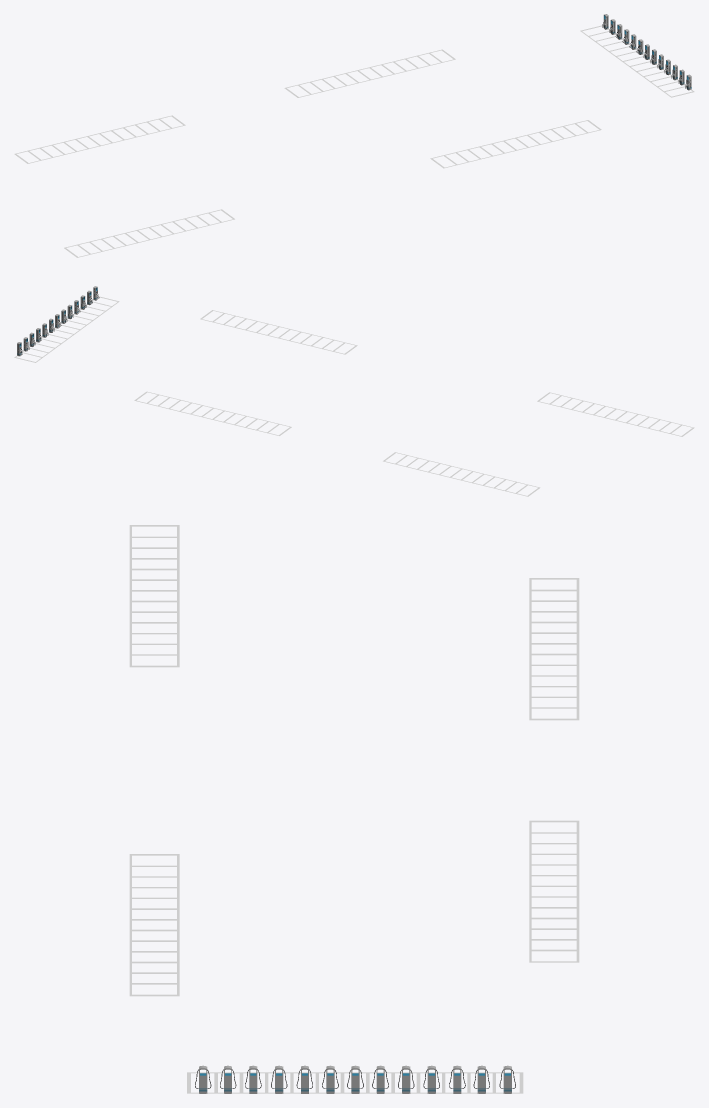
The model's file is building4.glb.
The picture shows the model from 3 angles, top to bottom: view 1: azimuth 30°, elevation 25°; view 2: azimuth 150°, elevation 25°; view 3: azimuth 270°, elevation 25°; orthographic projection. The views are drawn at different scales.
Parts seen in each view (by area): view 1: 平面.047, 平面.048, 平面.045, 平面.042, 平面.041; view 2: 平面.045, 平面.042, 平面.047, 平面.048, 平面.041; view 3: 平面.045, 平面.042, 平面.047, 平面.048, 平面.041.
Boxes of the visible parts, bbox=[...] form: 平面.047: bbox=[430, 120, 601, 168]; 平面.048: bbox=[64, 209, 234, 257]; 平面.045: bbox=[14, 115, 185, 163]; 平面.042: bbox=[284, 49, 455, 97]; 平面.041: bbox=[580, 25, 694, 97]; 平面.045: bbox=[383, 452, 540, 496]; 平面.042: bbox=[134, 391, 291, 435]; 平面.047: bbox=[200, 310, 357, 354]; 平面.048: bbox=[537, 392, 694, 436]; 平面.041: bbox=[14, 296, 119, 362]; 平面.045: bbox=[529, 578, 579, 720]; 平面.042: bbox=[529, 820, 579, 962]; 平面.047: bbox=[129, 854, 179, 996]; 平面.048: bbox=[129, 525, 179, 667]; 平面.041: bbox=[187, 1072, 523, 1093].
Size of the model in its own units: 10.54 by 0.221 by 3.52.
6 materials, 2 textured.
